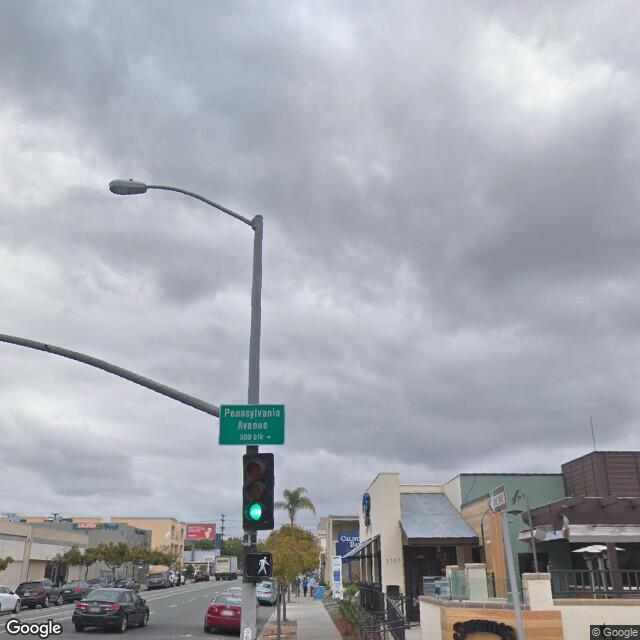light: (102, 176, 152, 198)
